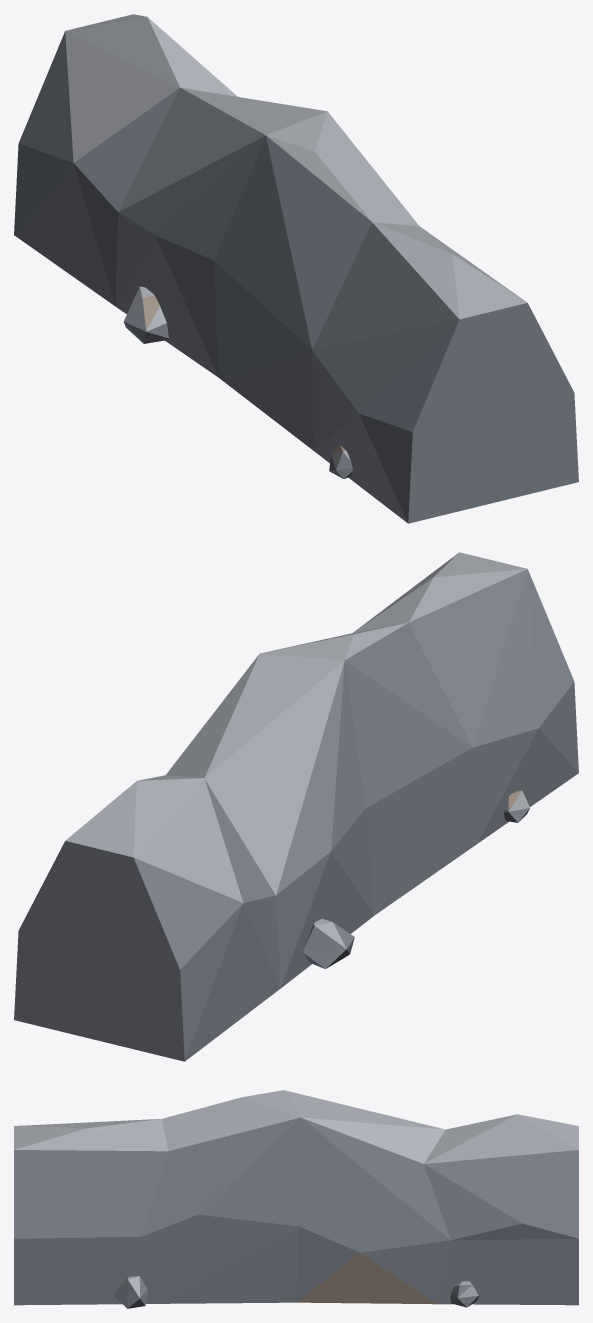
File: ridge_1.glb
3 renders of one model, top to bottom at view 1: azimuth 30°, elevation 25°; view 2: azimuth 150°, elevation 25°; view 3: azimuth 270°, elevation 25°, orthographic. The views are drawn at different scales.
Parts seen in each view (by area): view 1: Body; view 2: Body; view 3: Body.
Boxes of the visible parts, x1=… form: Body: x1=14, y1=14, x2=578, y2=523; Body: x1=14, y1=552, x2=578, y2=1061; Body: x1=14, y1=1090, x2=578, y2=1308.
Bounding box in the file's own units: 3.83 × 4.02 × 12.
